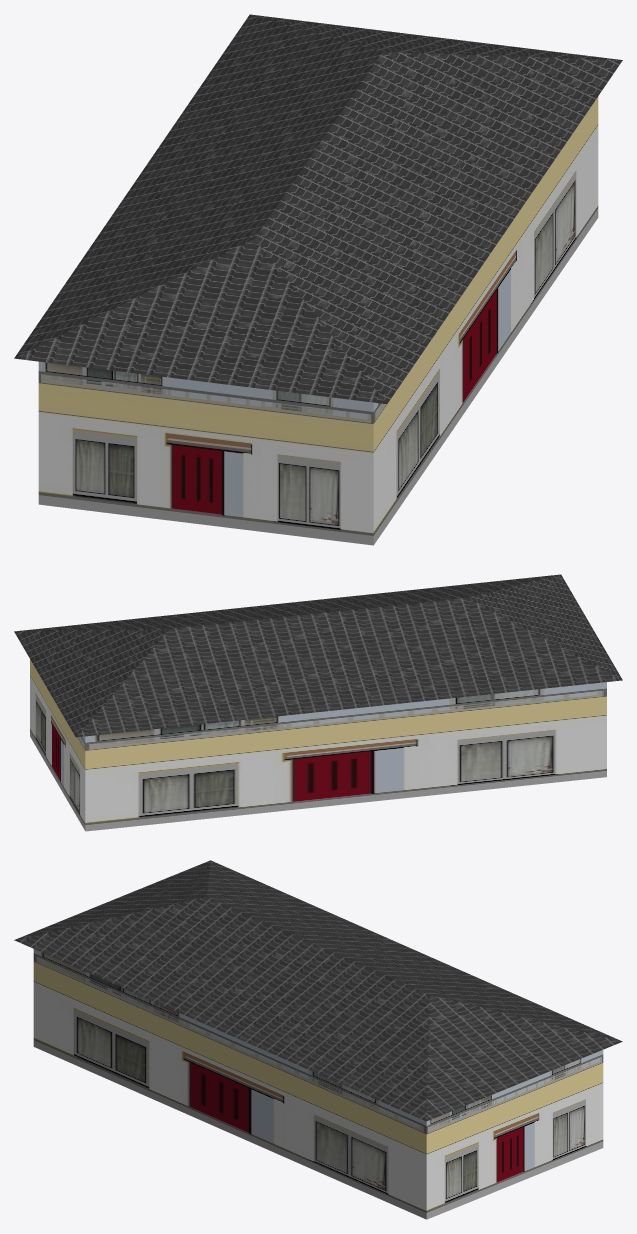
3 views of the same model, one above another, from view 1: azimuth 30°, elevation 25°; view 2: azimuth 150°, elevation 25°; view 3: azimuth 270°, elevation 25° (orthographic). The views are drawn at different scales.
Parts seen in each view (by area): view 1: CityEngineMaterial_16_m, CityEngineMaterial_15_m; view 2: CityEngineMaterial_16_m, CityEngineMaterial_15_m; view 3: CityEngineMaterial_16_m, CityEngineMaterial_15_m.
Part boxes in pixels (x1,y1,x2,y2): CityEngineMaterial_16_m: (14,14,622,403); CityEngineMaterial_15_m: (38,96,598,545); CityEngineMaterial_16_m: (14,574,622,737); CityEngineMaterial_15_m: (30,659,606,831); CityEngineMaterial_16_m: (14,860,622,1121); CityEngineMaterial_15_m: (33,949,603,1219).
Bounding box in the file's own units: 41.73 × 11.28 × 41.11.
